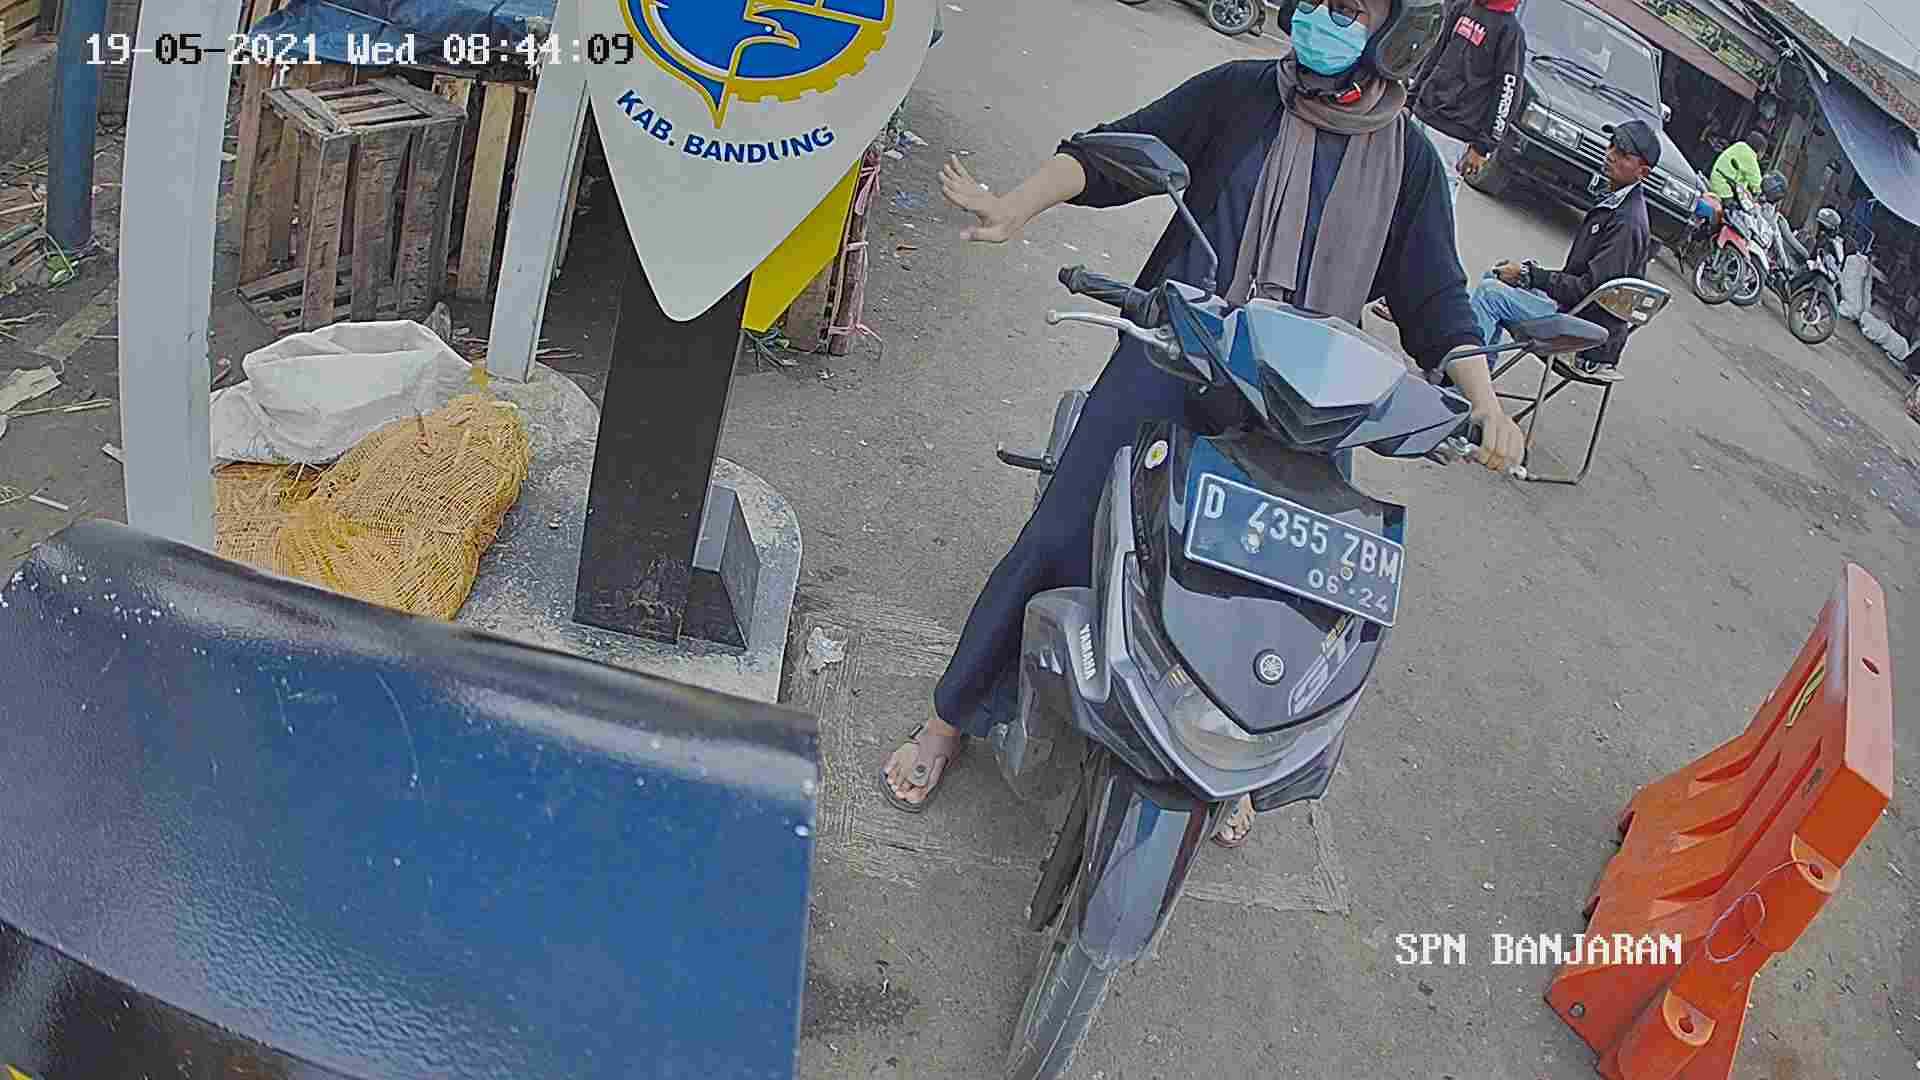motor: (949, 224, 1460, 1080)
